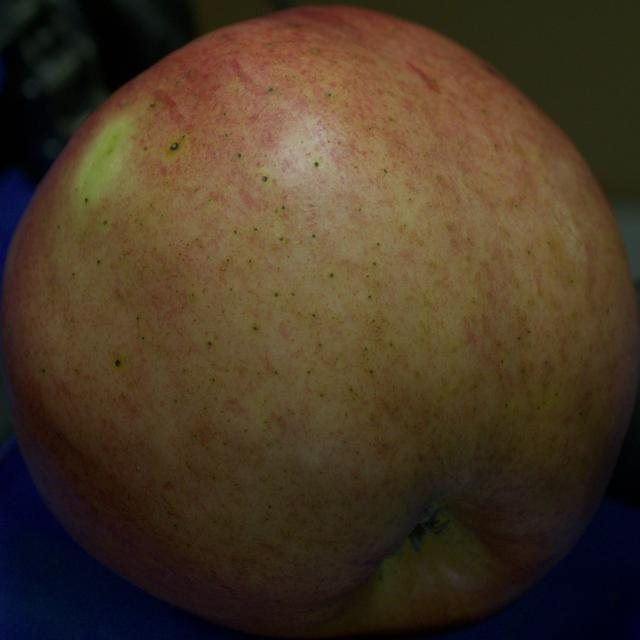apple: (1, 6, 639, 639)
pest: (170, 143, 178, 150), (115, 360, 120, 365)
